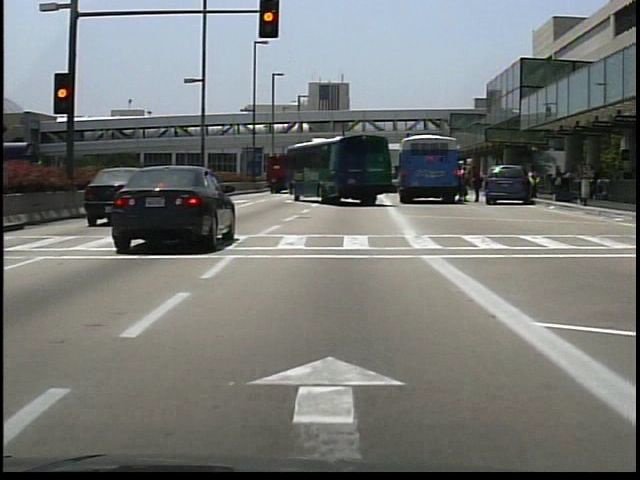person: (459, 163, 474, 204), (469, 162, 483, 205), (526, 168, 539, 205)
